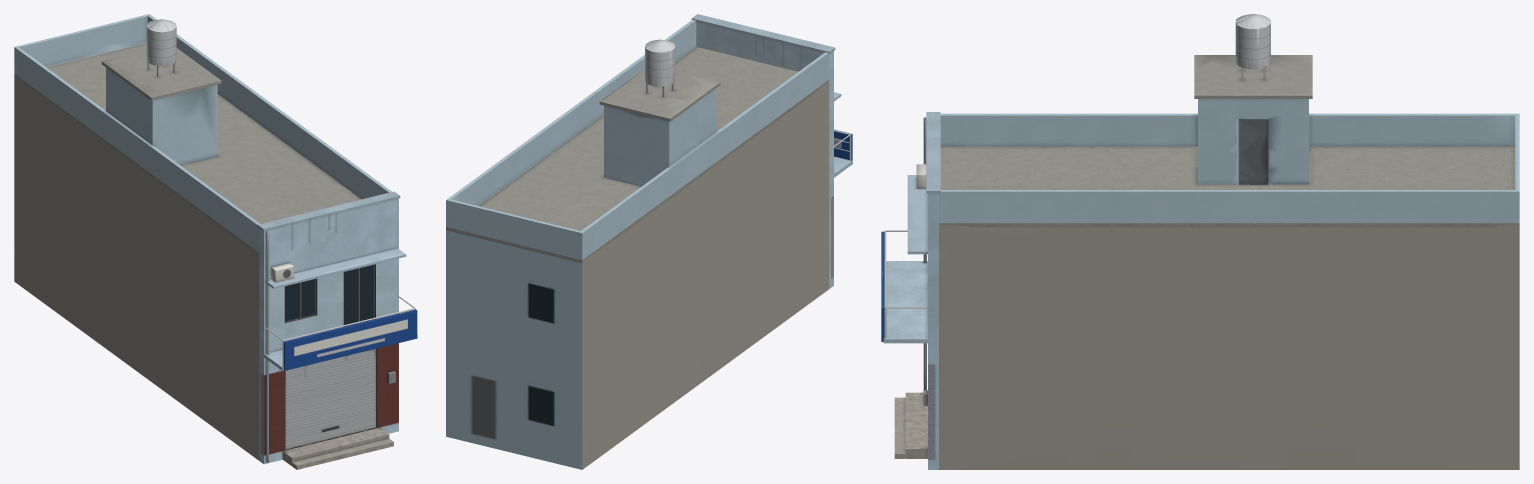
The model's file is nha_pho_2_tang_vung_tau.glb.
3 renders of one model, left to right at view 1: azimuth 30°, elevation 25°; view 2: azimuth 150°, elevation 25°; view 3: azimuth 270°, elevation 25°, orthographic. The views are drawn at different scales.
Visible parts, largest first — view 1: nha_pho_2_tang_vung_tau; view 2: nha_pho_2_tang_vung_tau; view 3: nha_pho_2_tang_vung_tau.
Part boxes in pixels (x1=…): nha_pho_2_tang_vung_tau: x1=14, y1=14, x2=417, y2=469; nha_pho_2_tang_vung_tau: x1=446, y1=14, x2=852, y2=469; nha_pho_2_tang_vung_tau: x1=881, y1=14, x2=1519, y2=469.
Bounding box in the file's own units: 5.06 × 11.81 × 17.26.
Materials: 3 (3 with a texture image).
